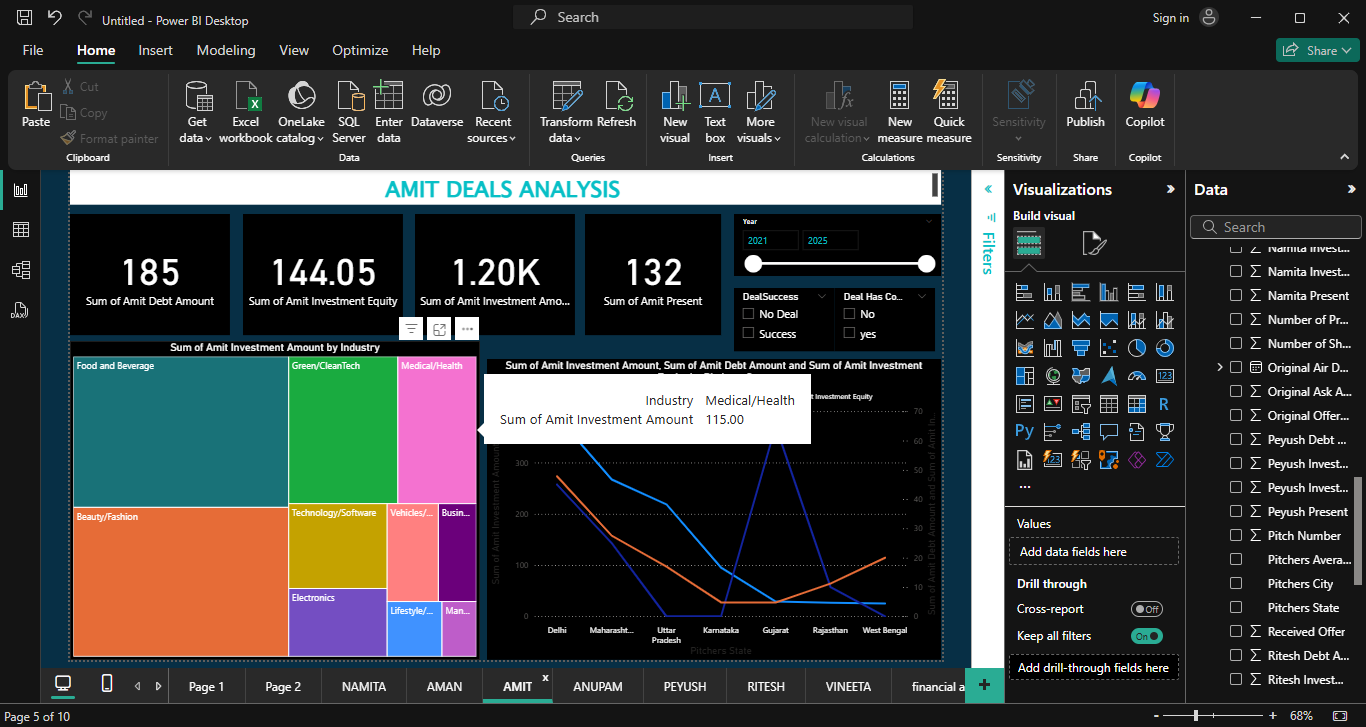

What the dashboard file says about the page in this screenshot:
{"tool":"powerbi","page":{"name":"AMIT","canvas":[1280,720],"ordinal":4},"visuals":[{"type":"card","fields":{"Values":["Sum(Shark_Tank_India_Cleaned.Amit Debt Amount)"]},"box":[0,64.7,235.1,177.8],"z":0},{"type":"card","fields":{"Values":["Sum(Shark_Tank_India_Cleaned.Amit Investment Equity)"]},"box":[254.2,64.7,235.1,177.8],"z":1000},{"type":"card","fields":{"Values":["Sum(Shark_Tank_India_Cleaned.Amit Investment Amount)"]},"box":[506.9,64.7,235.1,177.8],"z":2000},{"type":"card","fields":{"Values":["Sum(Shark_Tank_India_Cleaned.Amit Present)"]},"box":[756.7,64.7,199.8,177.8],"z":3000},{"type":"slicer","fields":{"Values":["Shark_Tank_India_Cleaned.Year"]},"box":[975.7,64.7,304.2,89.6],"z":4000},{"type":"textbox","box":[0,0,1279.8,51.4],"z":5000},{"type":"treemap","fields":{"Group":["Shark_Tank_India_Cleaned.Industry"],"Values":["Sum(Shark_Tank_India_Cleaned.Amit Investment Amount)"]},"box":[0,251.3,602.4,468.7],"z":6000},{"type":"slicer","fields":{"Values":["Shark_Tank_India_Cleaned.DealSuccess"]},"box":[975.7,173.4,148.4,92.6],"z":7000},{"type":"slicer","fields":{"Values":["Shark_Tank_India_Cleaned.Deal Has Conditions"]},"box":[1124.1,173.4,146.9,92.6],"z":8000},{"type":"lineChart","fields":{"Y":["Sum(Shark_Tank_India_Cleaned.Amit Investment Amount)"],"Y2":["Sum(Shark_Tank_India_Cleaned.Amit Debt Amount)","Sum(Shark_Tank_India_Cleaned.Amit Investment Equity)"],"Category":["Shark_Tank_India_Cleaned.Pitchers State"]},"box":[612.7,277.7,667.1,442.3],"z":9000}]}

Visuals, with their boxes on the page's 1280x720 design canvas (x1, y1, x2, y2). These are canvas units, not pixel positions in the 1366x727 screenshot, which may show the page scaled, cropped or inside an application window:
card - Sum(Shark_Tank_India_Cleaned.Amit Debt Amount): (left=0, top=65, right=235, bottom=242)
card - Sum(Shark_Tank_India_Cleaned.Amit Investment Equity): (left=254, top=65, right=489, bottom=242)
card - Sum(Shark_Tank_India_Cleaned.Amit Investment Amount): (left=507, top=65, right=742, bottom=242)
card - Sum(Shark_Tank_India_Cleaned.Amit Present): (left=757, top=65, right=956, bottom=242)
slicer - Shark_Tank_India_Cleaned.Year: (left=976, top=65, right=1280, bottom=154)
textbox: (left=0, top=0, right=1280, bottom=51)
treemap - Shark_Tank_India_Cleaned.Industry x Sum(Shark_Tank_India_Cleaned.Amit Investment Amount): (left=0, top=251, right=602, bottom=720)
slicer - Shark_Tank_India_Cleaned.DealSuccess: (left=976, top=173, right=1124, bottom=266)
slicer - Shark_Tank_India_Cleaned.Deal Has Conditions: (left=1124, top=173, right=1271, bottom=266)
lineChart - Sum(Shark_Tank_India_Cleaned.Amit Investment Amount) x Sum(Shark_Tank_India_Cleaned.Amit Debt Amount): (left=613, top=278, right=1280, bottom=720)
